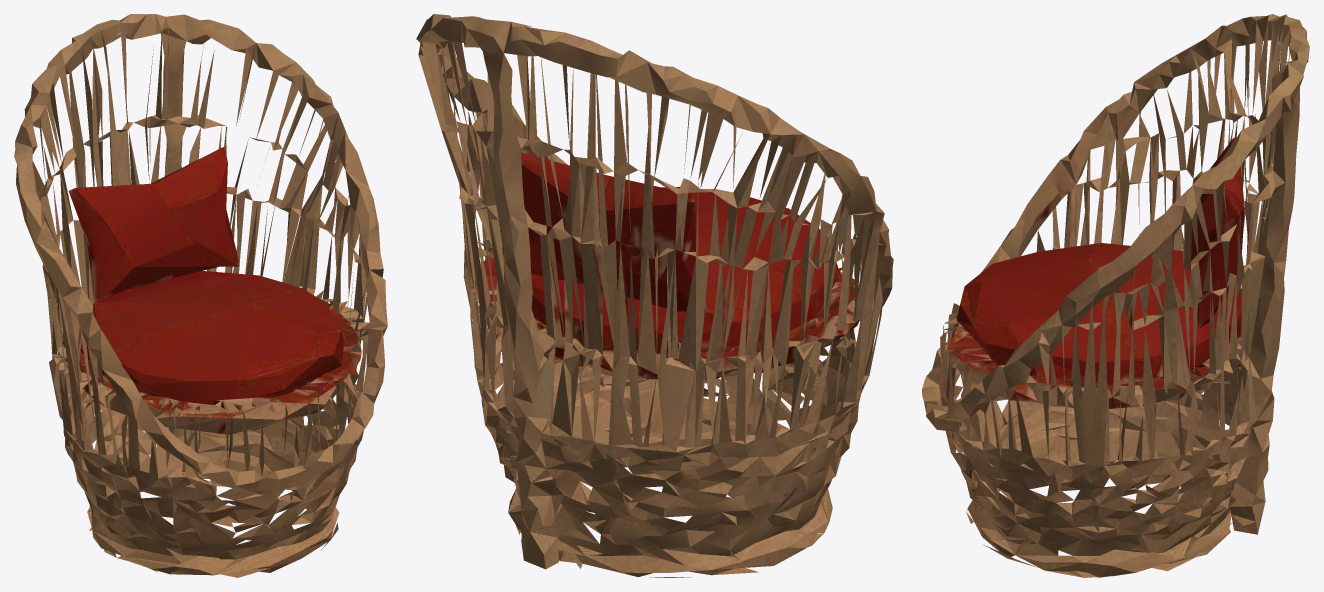
File: wicker-chair.glb
3 views of the same model, side by side, from view 1: azimuth 30°, elevation 25°; view 2: azimuth 150°, elevation 25°; view 3: azimuth 270°, elevation 25° (orthographic). The views are drawn at different scales.
Visible parts, largest first — view 1: wicker-chair; view 2: wicker-chair; view 3: wicker-chair.
Boxes of the visible parts, left/top/right/bottom form: wicker-chair: left=14, top=14, right=387, bottom=577; wicker-chair: left=416, top=14, right=893, bottom=577; wicker-chair: left=922, top=14, right=1309, bottom=577.
Size of the model in its own units: 0.6859 by 0.9002 by 0.6522.
Materials: 1 (1 with a texture image).
